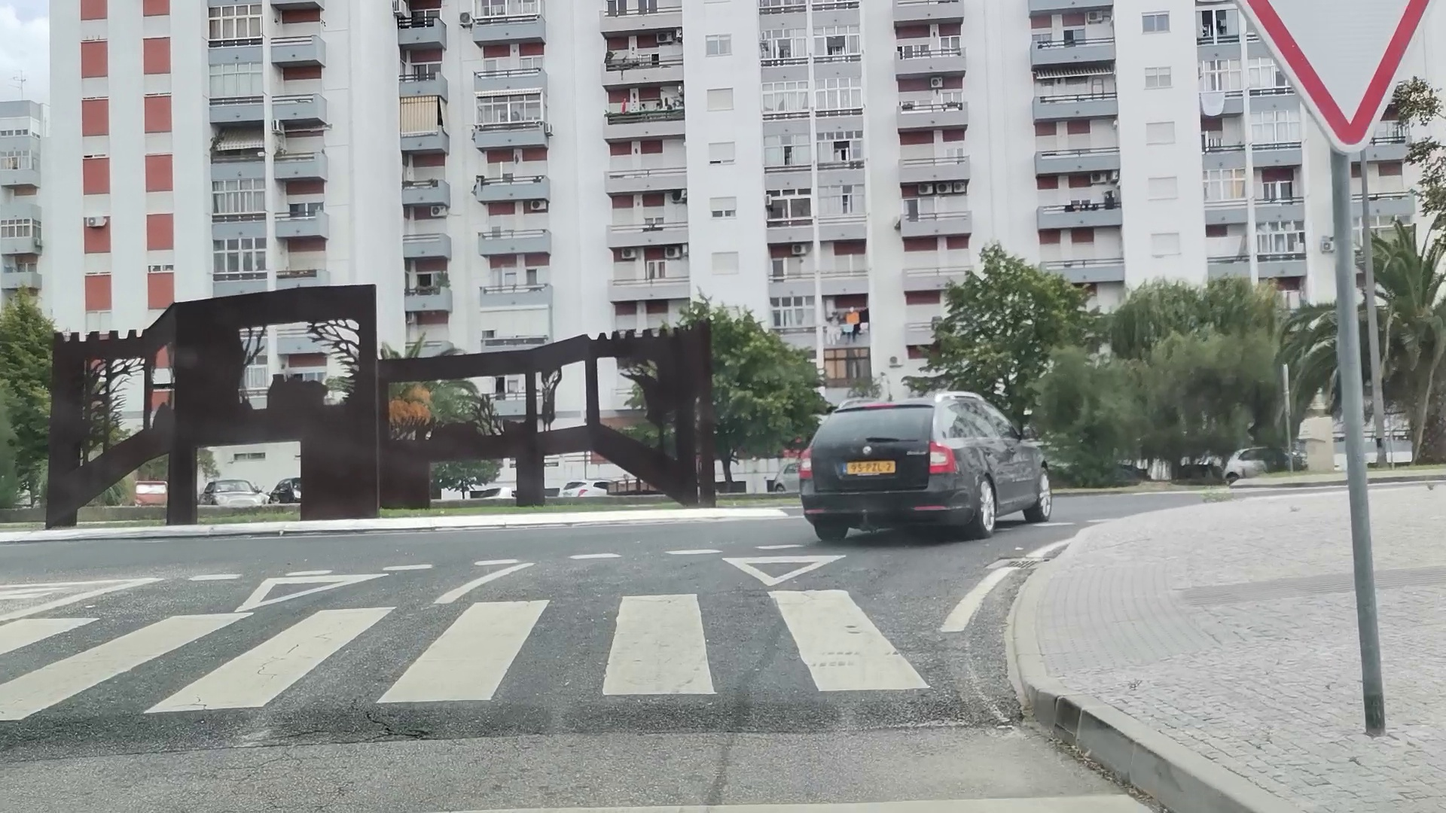Stairs: (0, 587, 941, 724)
